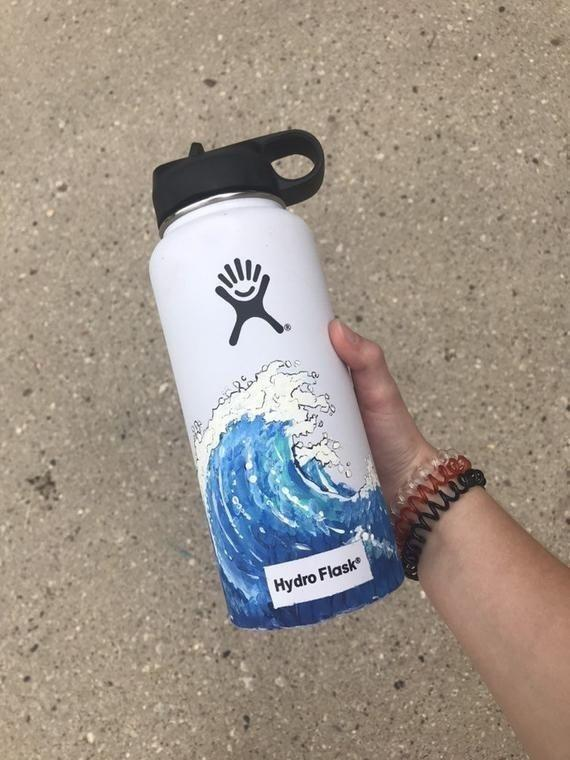gym bottle: (148, 128, 403, 630)
